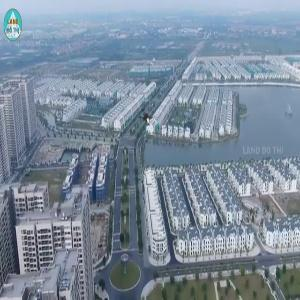drone: (125, 98, 167, 140)
